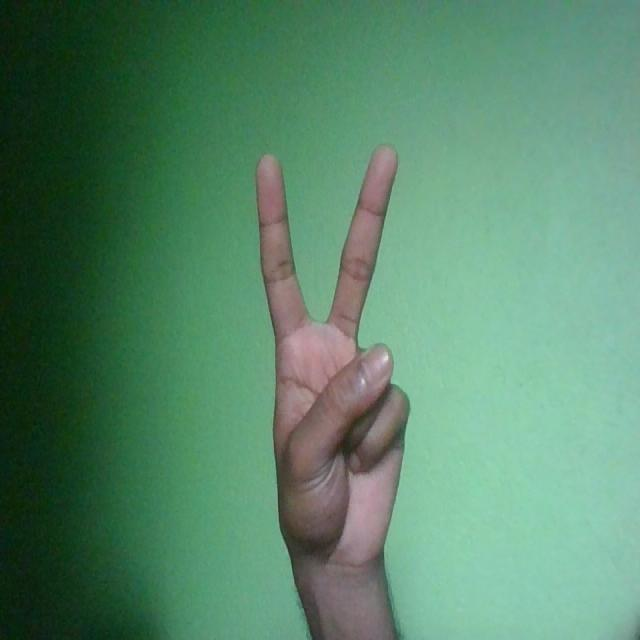Fist: (255, 140, 410, 581)
